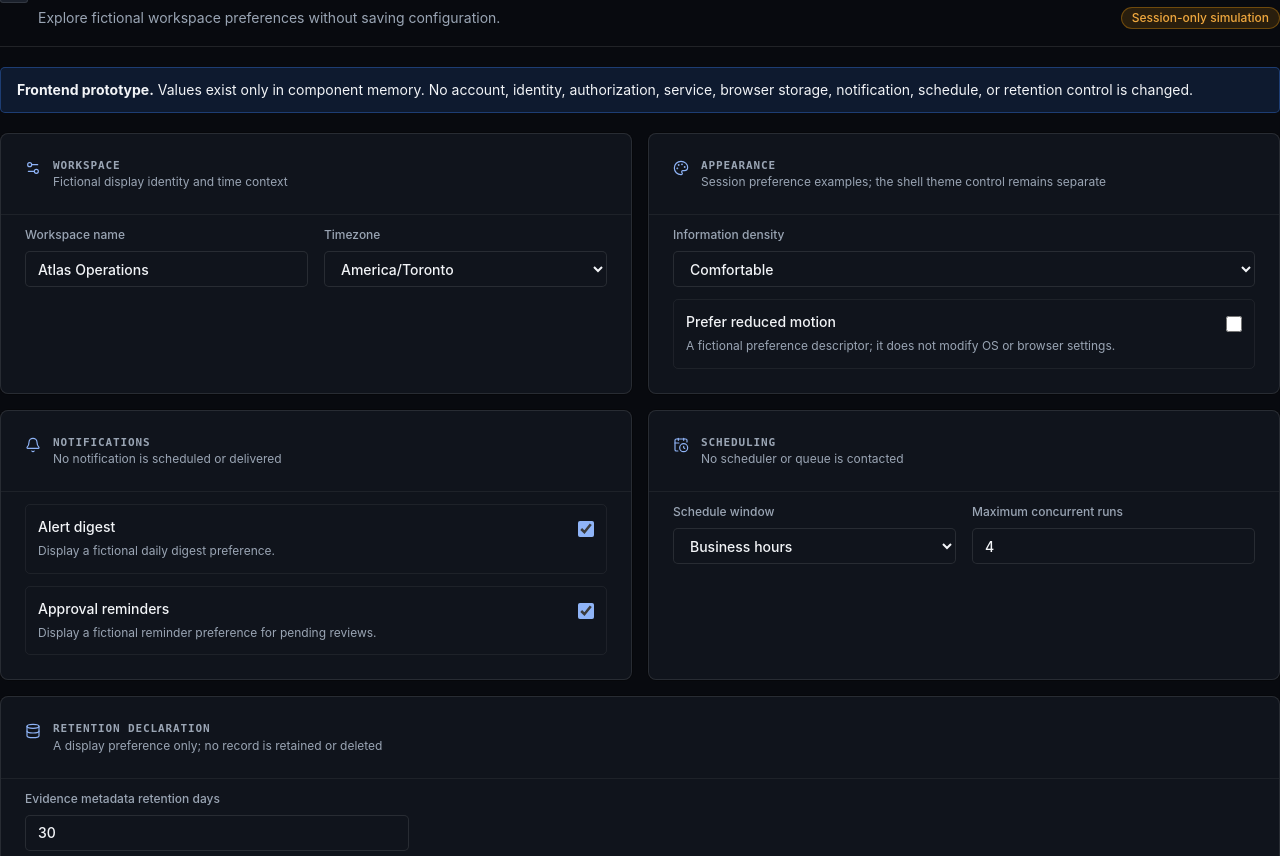
Test: SettingsWorkspace › resets session changes to deterministic fixture defaults
Step 1. Replace the text in the field labelled "Workspace name" with "Changed locally" → [166, 269], box [25,251,308,287]
(page scrolled)
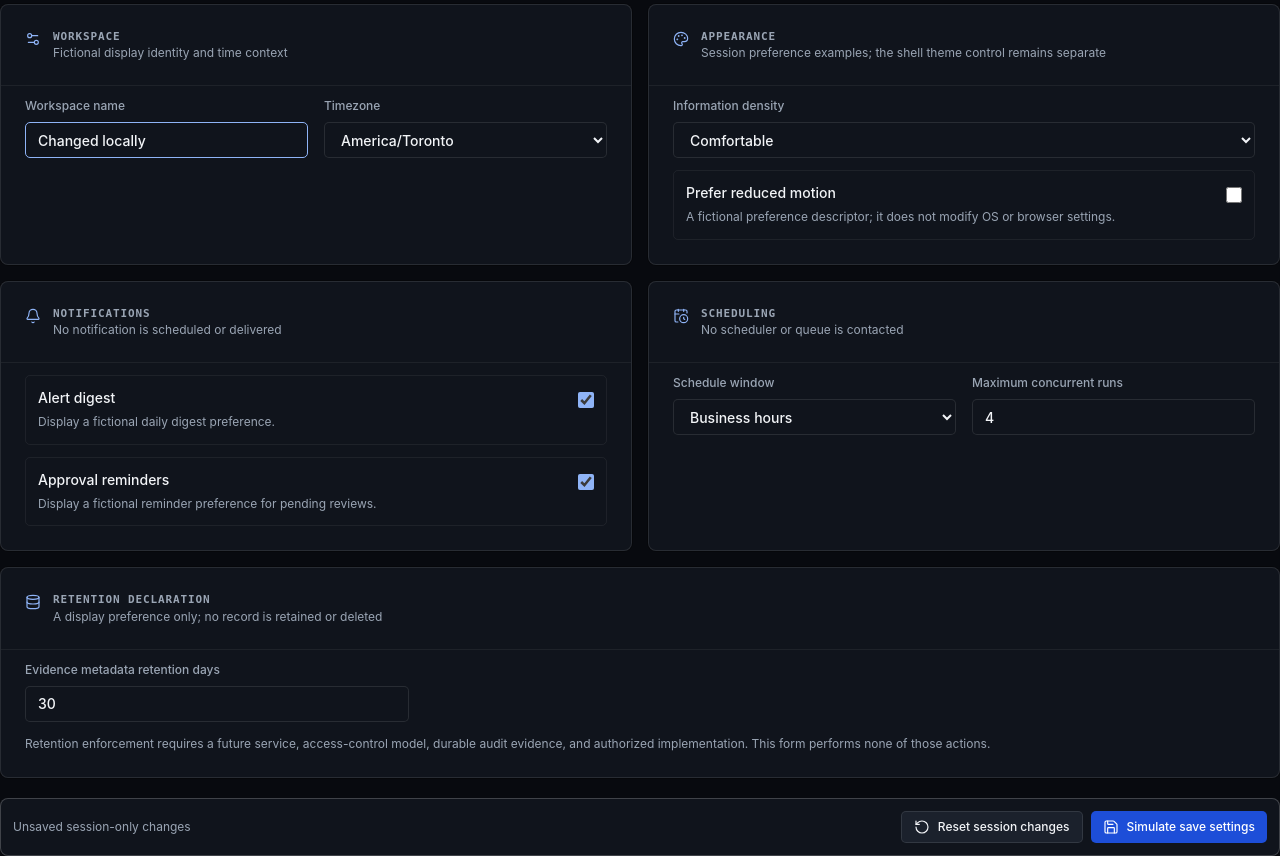
Expected: the text "Unsaved session-only changes" is shown, [13,819,191,835]
Step 2. Click the button "Reset session changes" → [992, 827], box [901,811,1082,843]
(page scrolled)
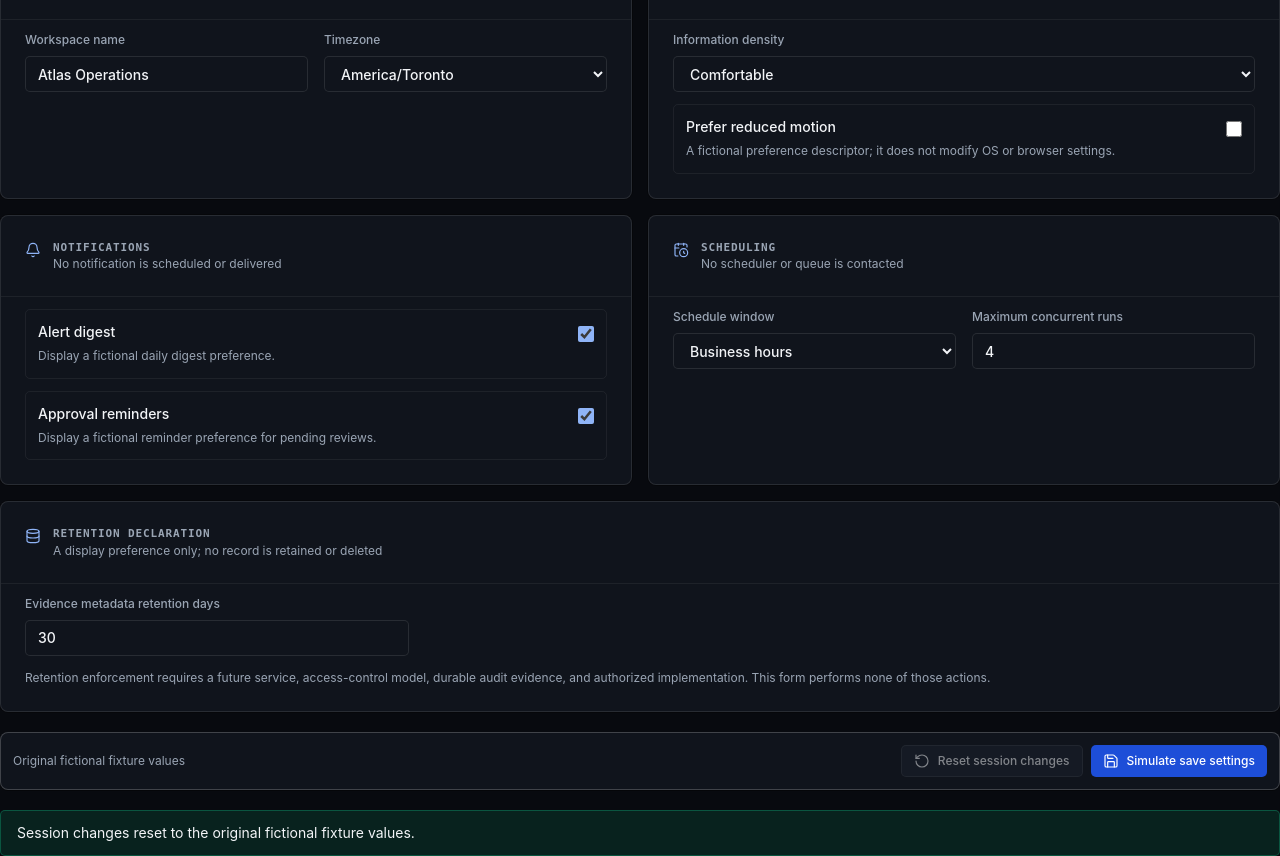
Expected: the field labelled "Workspace name" holds "Atlas Operations", [25,56,308,92]
Expected: the message shows "Session changes reset", [17,824,415,841]
